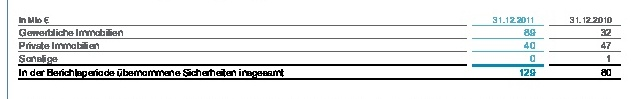table: (0, 0, 639, 99)
